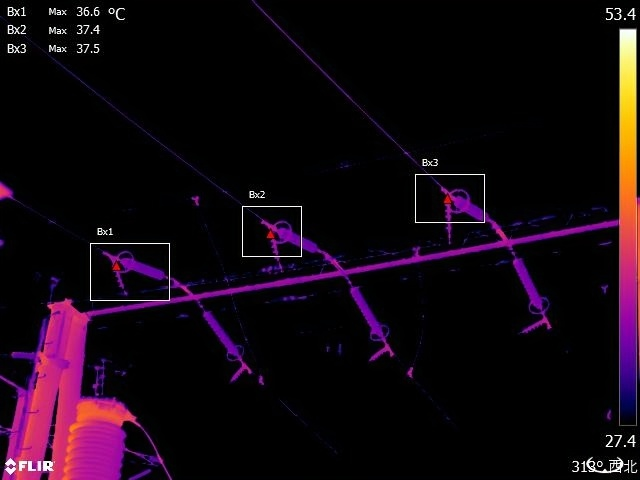circuit breaker: (51, 377, 149, 480)
clamp: (254, 371, 271, 391), (403, 364, 420, 383)
insulator: (196, 302, 240, 361), (350, 282, 391, 340), (510, 255, 548, 316), (273, 220, 333, 258), (455, 188, 497, 229), (117, 248, 163, 284)
tube: (519, 311, 555, 336), (441, 199, 458, 236), (228, 358, 253, 382), (369, 342, 397, 363), (267, 236, 283, 268), (113, 264, 126, 289)
